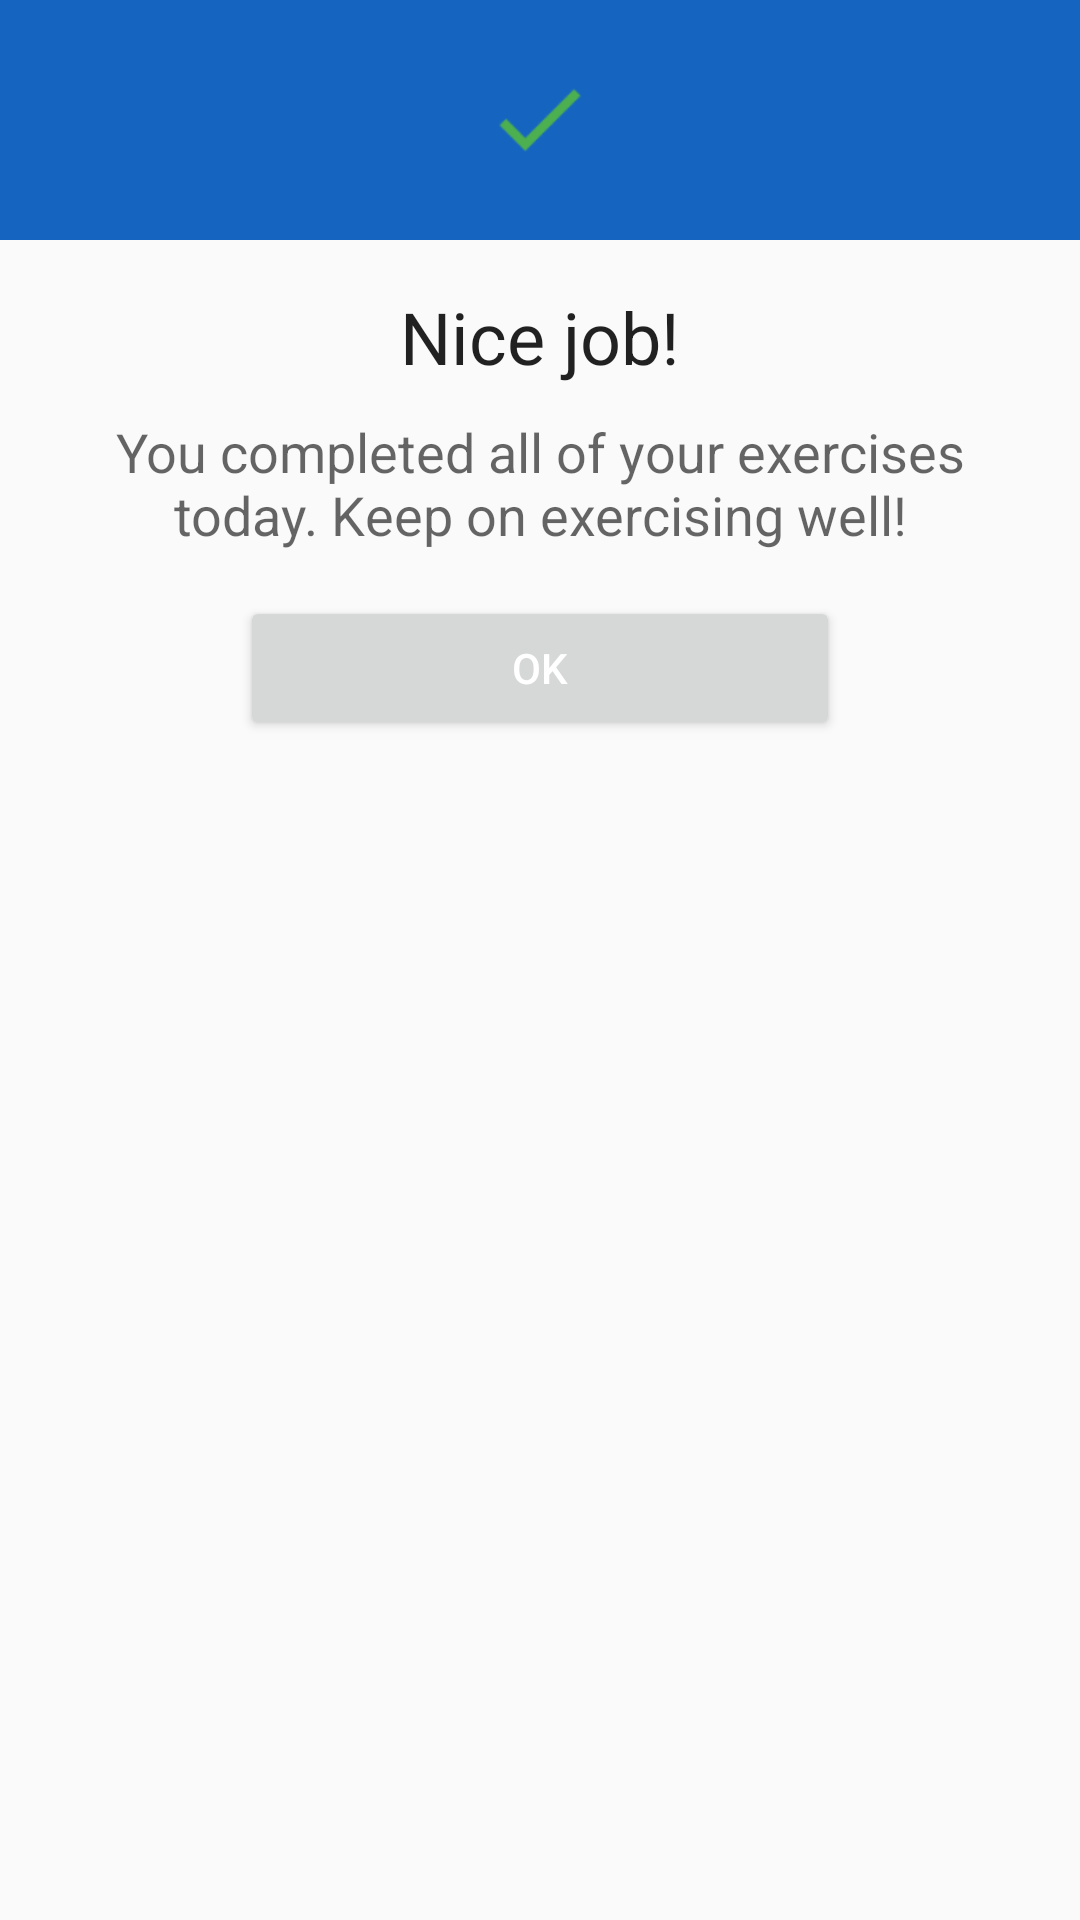

Named icons in this screenshot (1080 x 1920) and their bounding boxes, bbox=[x1, y1, x2, y2]:
check: bbox=[500, 89, 581, 151]
